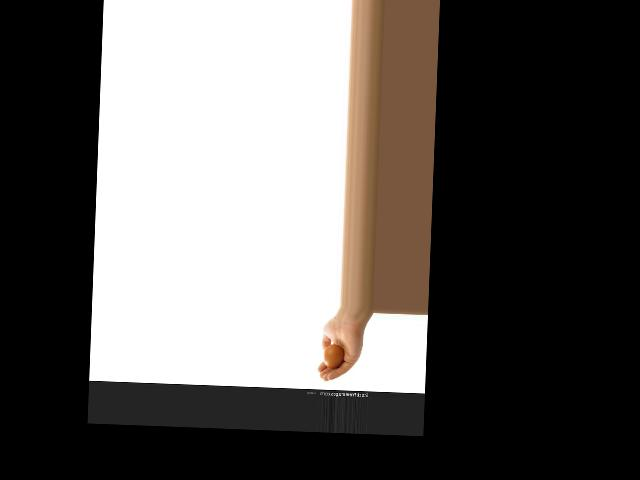egg: (323, 343, 344, 370)
